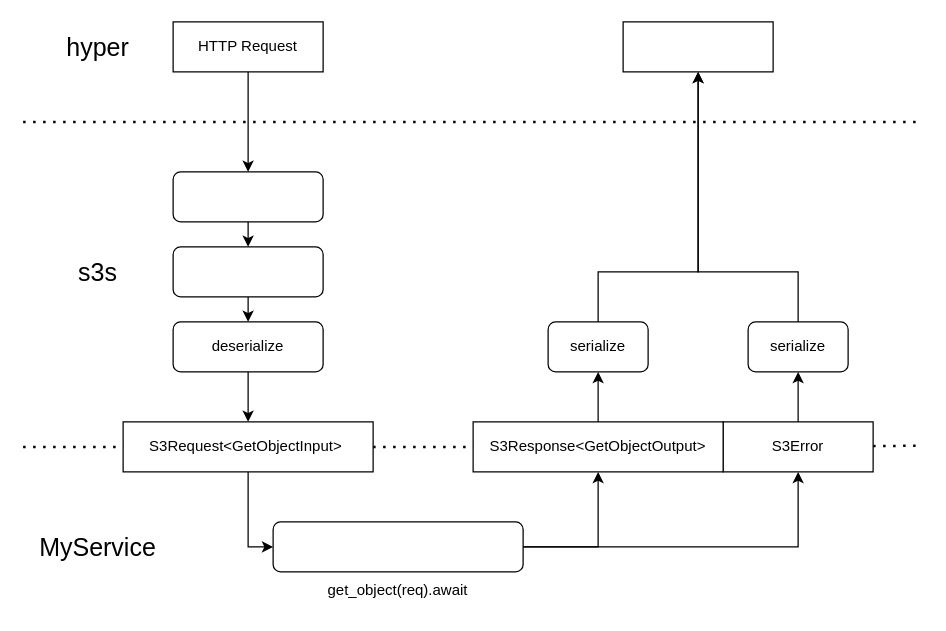
The diagram is 946 pixels wide and 631 high, and some of its shapes have lost their labels. The box of each missing label's shape, as (x1, y1, x2, y2) in pixels:
check signature: (172, 171, 323, 222)
HTTP Response: (622, 21, 773, 72)
impl S3 for MyService: (272, 521, 523, 572)
routing: (172, 246, 323, 297)
